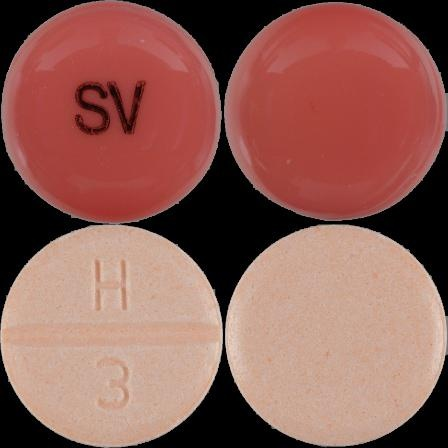69189-1708: (0, 0, 224, 224)
